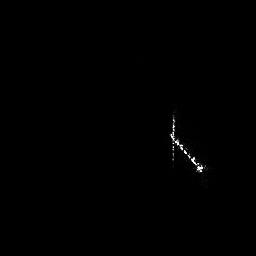ship: (168, 114, 208, 175)
